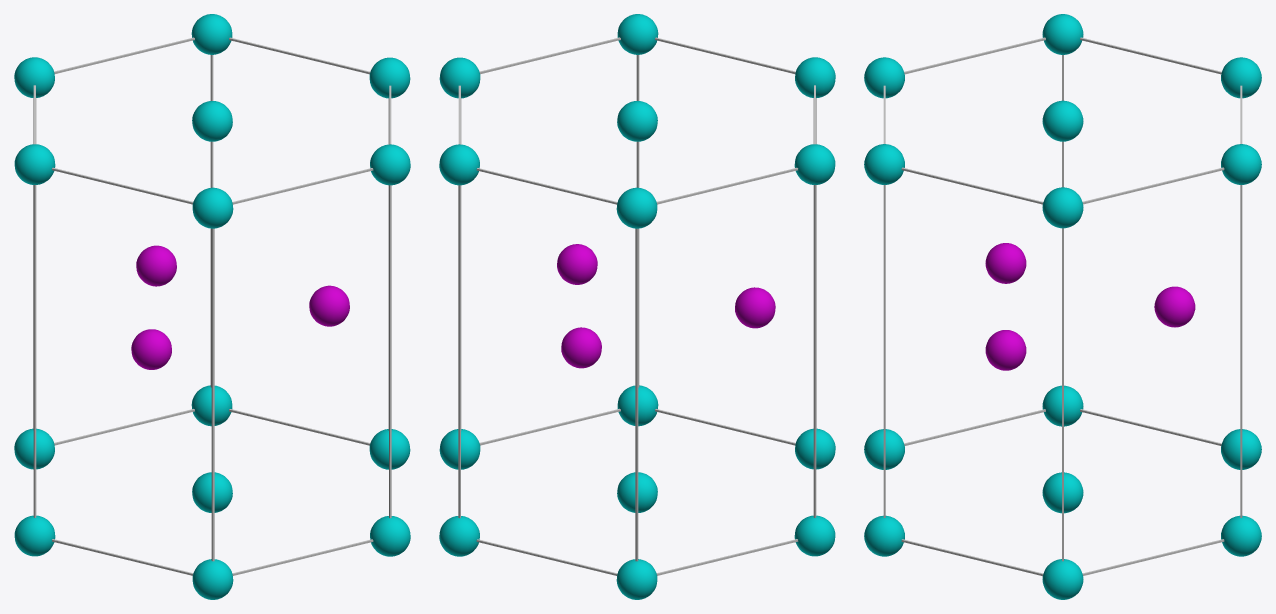
File: hcp.glb
3 views of the same model, side by side, from view 1: azimuth 30°, elevation 25°; view 2: azimuth 150°, elevation 25°; view 3: azimuth 270°, elevation 25° (orthographic).
Visible parts, largest first — view 1: abajo13; view 2: abajo13; view 3: abajo13.
Part boxes in pixels (x1,y1,x2,y2): abajo13: (14,14,410,599); abajo13: (439,14,835,599); abajo13: (864,14,1261,599).
Bounding box in the file's own units: 2.2 × 2.2 × 1.94.
